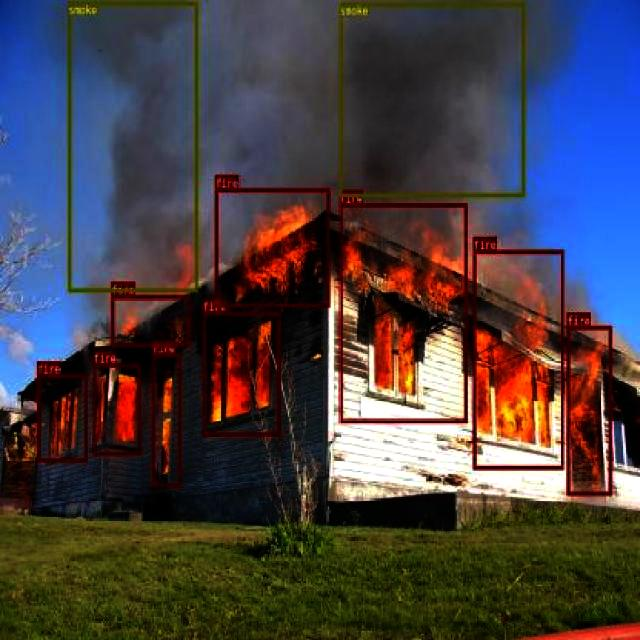fire: (338, 202, 466, 422), (472, 250, 563, 468), (214, 188, 328, 306), (202, 312, 280, 436), (566, 326, 611, 494), (36, 374, 87, 462), (92, 363, 140, 454), (110, 294, 190, 348), (152, 353, 180, 487)
smoke: (67, 0, 198, 292), (338, 1, 524, 197)
